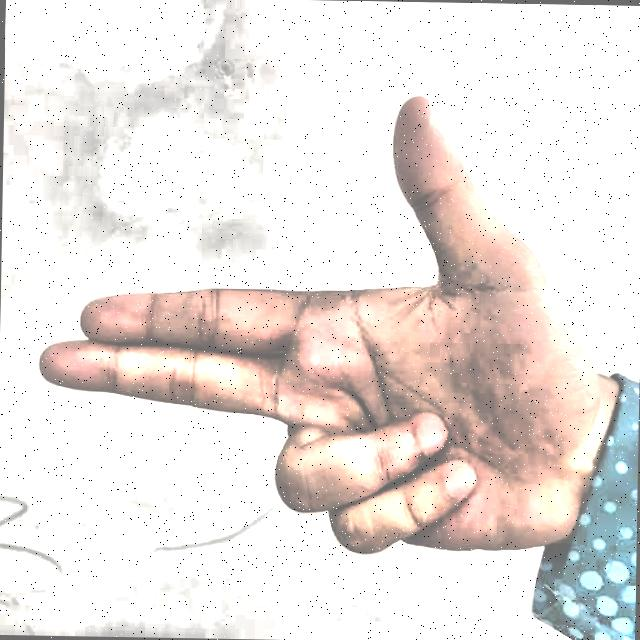Jha: (24, 41, 612, 622)
